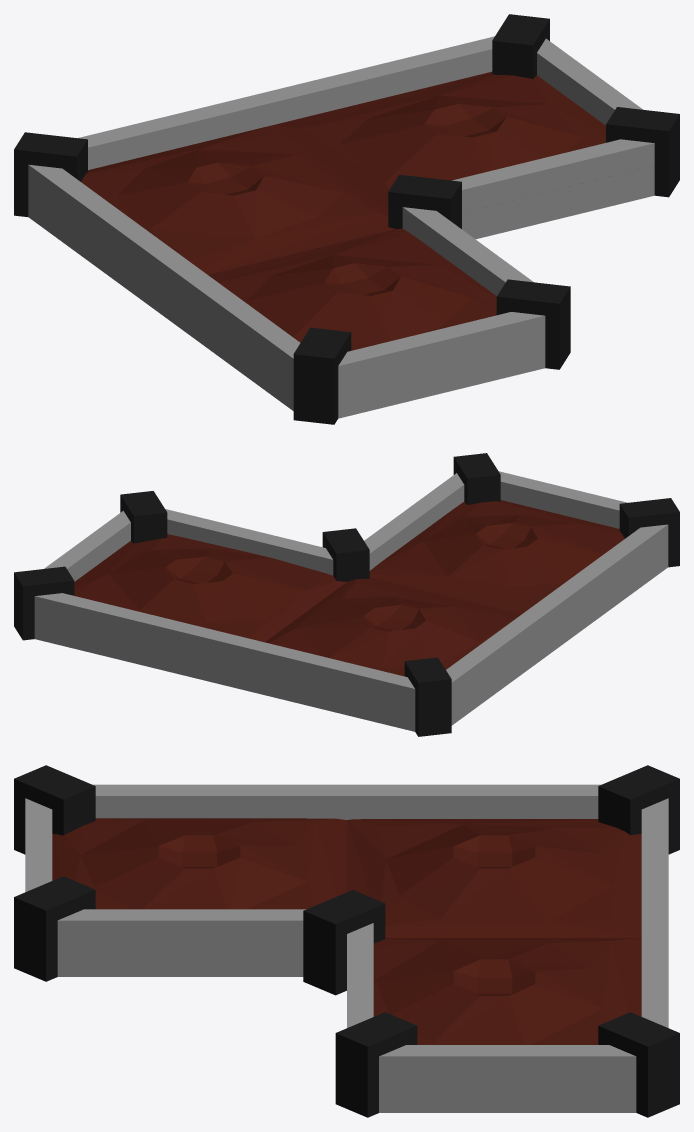
The model's file is obj_plot_3.FBX.
The picture shows the model from 3 angles, top to bottom: view 1: azimuth 30°, elevation 25°; view 2: azimuth 150°, elevation 25°; view 3: azimuth 270°, elevation 25°; orthographic projection. The views are drawn at different scales.
Parts seen in each view (by area): view 1: obj_plot_3, obj_plot_3_soil_2, obj_plot_3_soil_3, obj_plot_3_soil_1; view 2: obj_plot_3, obj_plot_3_soil_1, obj_plot_3_soil_3, obj_plot_3_soil_2; view 3: obj_plot_3, obj_plot_3_soil_2, obj_plot_3_soil_3, obj_plot_3_soil_1.
Part boxes in pixels (x1,y1,x2,y2): obj_plot_3: (14, 14, 679, 424); obj_plot_3_soil_2: (81, 125, 395, 274); obj_plot_3_soil_3: (272, 71, 605, 210); obj_plot_3_soil_1: (208, 228, 496, 350); obj_plot_3: (14, 453, 679, 736); obj_plot_3_soil_1: (369, 500, 624, 614); obj_plot_3_soil_3: (74, 534, 346, 642); obj_plot_3_soil_2: (265, 577, 521, 676); obj_plot_3: (14, 765, 679, 1117); obj_plot_3_soil_2: (347, 819, 641, 937); obj_plot_3_soil_3: (373, 938, 641, 1044); obj_plot_3_soil_1: (52, 818, 346, 909).
Bounding box in the file's own units: 20.71 × 2.44 × 20.71.
